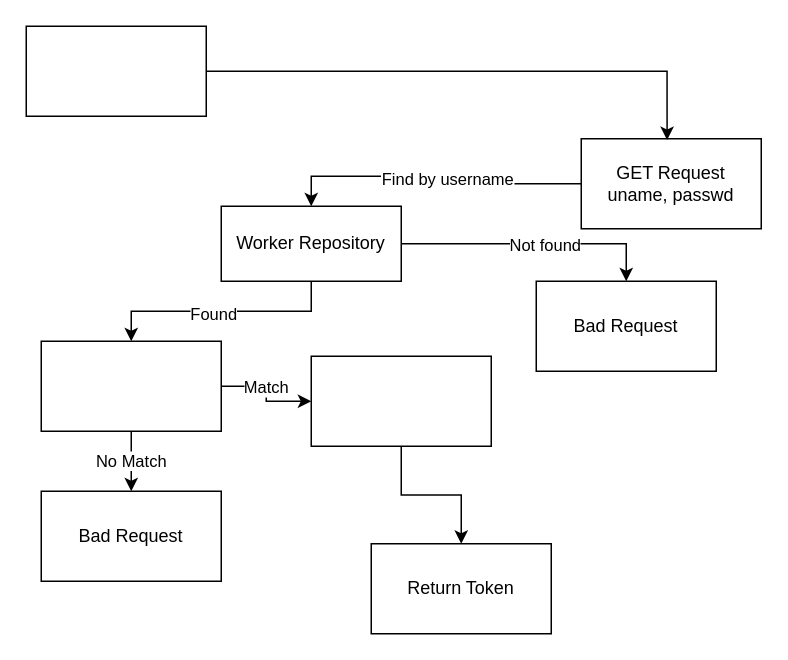
The diagram is 788 pixels wide and 660 high, and some of its shapes have lost their labels. The box of each missing label's shape, as (x1, y1, x2, y2) in pixels:
Generate Token and Save to Worker Repository: (310, 355, 491, 446)
Hash passwd and compare to the one in the database: (40, 340, 221, 431)
Login: (25, 25, 206, 116)
